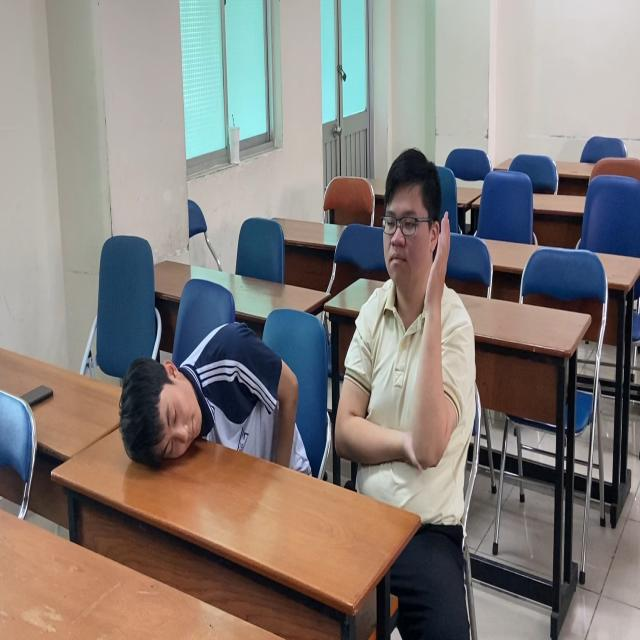raise_hand: (345, 146, 490, 539)
sleep: (112, 311, 306, 485)
